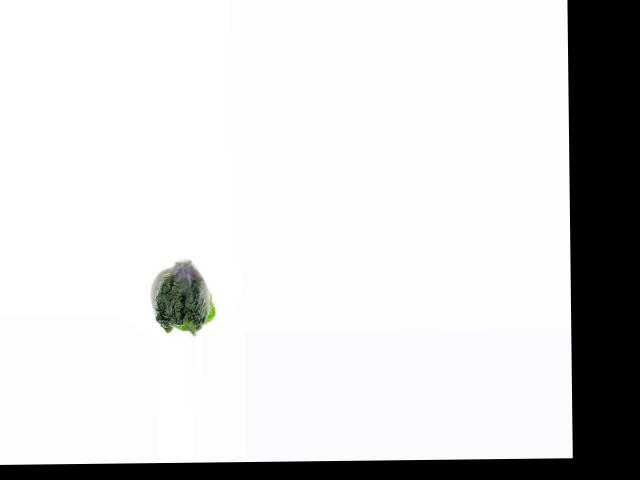lettuce: (148, 260, 219, 334)
